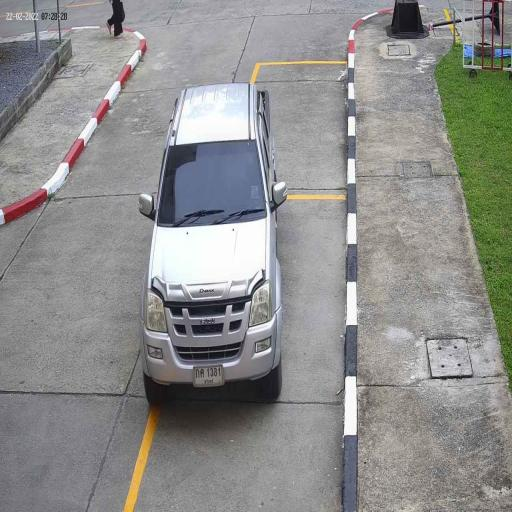car: (142, 82, 283, 408)
